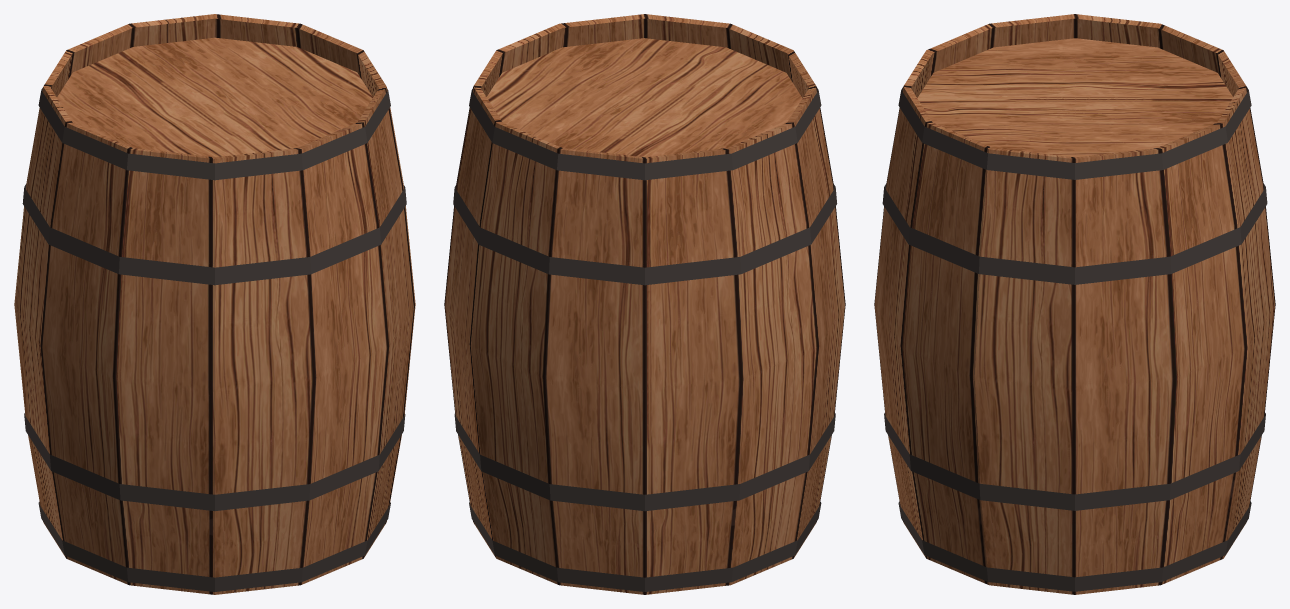
Rendered from barel.fbx.
3 renders of one model, left to right at view 1: azimuth 30°, elevation 25°; view 2: azimuth 150°, elevation 25°; view 3: azimuth 270°, elevation 25°, orthographic.
Parts seen in each view (by area): view 1: polySurface24; view 2: polySurface24; view 3: polySurface24.
Part boxes in pixels (left/top/right/bottom): polySurface24: left=14, top=14, right=415, bottom=594; polySurface24: left=444, top=14, right=845, bottom=594; polySurface24: left=874, top=14, right=1275, bottom=594.
Bounding box in the file's own units: 2.44 × 2.93 × 2.44.
3 materials, 2 textured.
